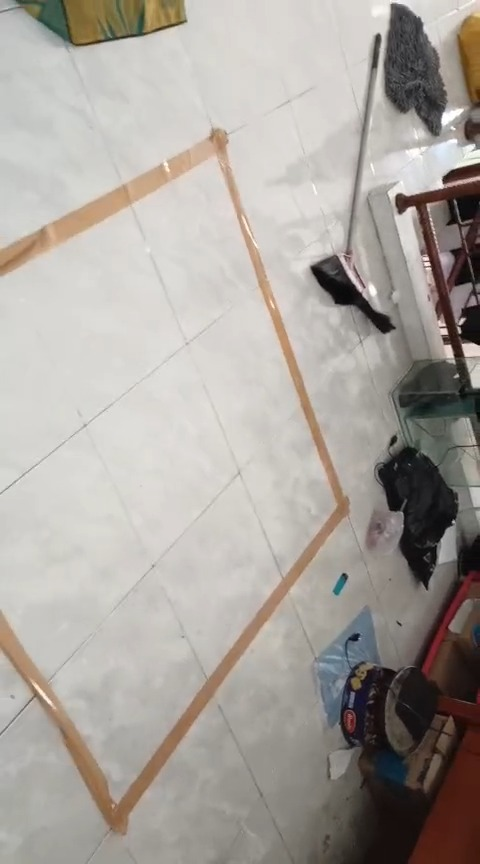floor marking: (0, 130, 348, 831)
